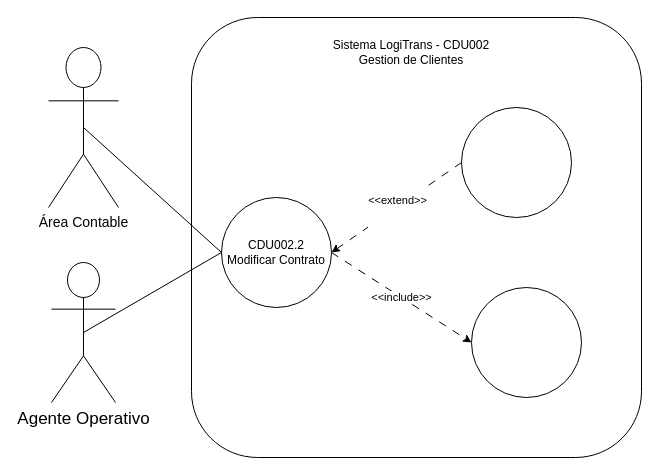
The diagram is 659 pixels wide and 475 high, and some of its shapes have lost their labels. Each missing label, with the centre of its shape:
"CDU002.3 Aplicar Descuento Especial" goes at [516,162].
"CDU002.3 Consultar Contrato" goes at [526,342].
